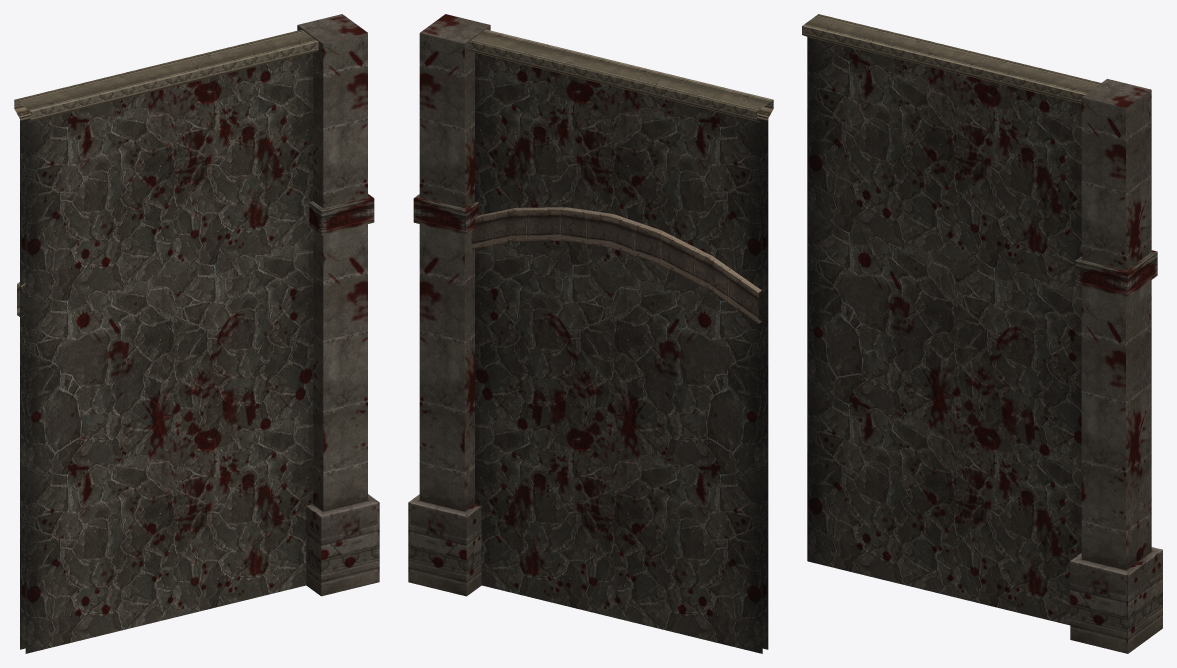
The model's file is blsd_shiqiang_03.FBX.
3 views of the same model, side by side, from view 1: azimuth 30°, elevation 25°; view 2: azimuth 150°, elevation 25°; view 3: azimuth 330°, elevation 25° (orthographic).
Visible parts, largest first — view 1: blsd_shiqiang_03; view 2: blsd_shiqiang_03; view 3: blsd_shiqiang_03.
Part boxes in pixels (bbox=[...]): blsd_shiqiang_03: bbox=[14, 14, 379, 653]; blsd_shiqiang_03: bbox=[408, 14, 773, 653]; blsd_shiqiang_03: bbox=[802, 14, 1162, 653].
Bounding box in the file's own units: 325 × 501 × 58.71.
